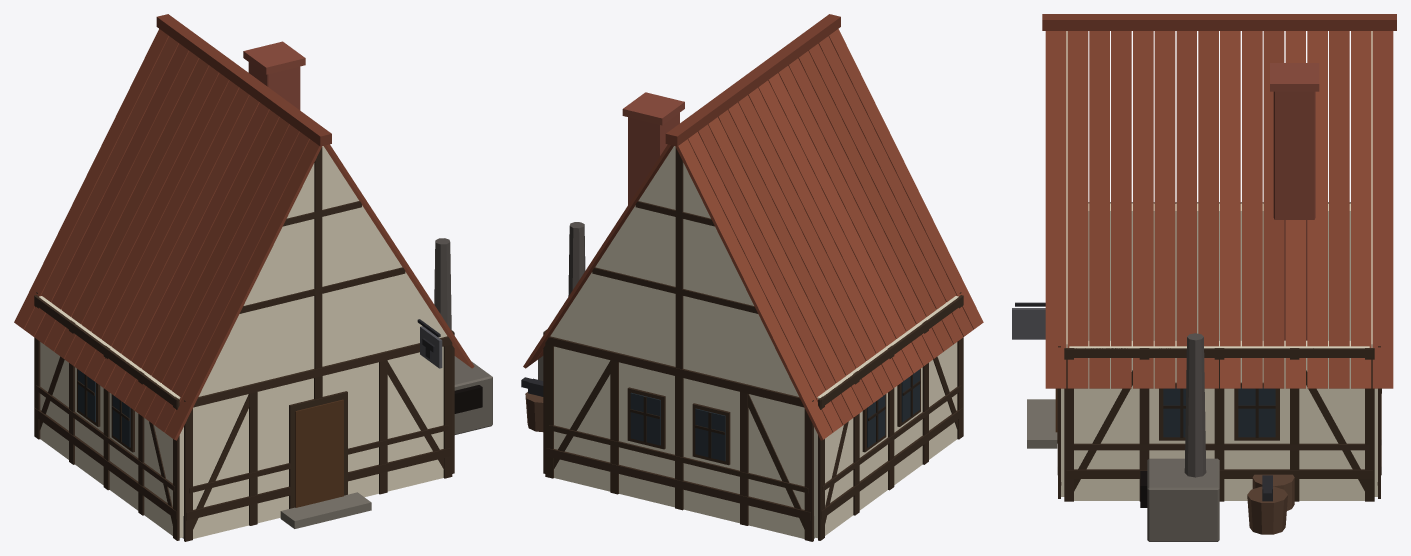
The model's file is forge_2.glb.
3 renders of one model, left to right at view 1: azimuth 30°, elevation 25°; view 2: azimuth 150°, elevation 25°; view 3: azimuth 270°, elevation 25°, orthographic. The views are drawn at different scales.
Parts seen in each view (by area): view 1: forge2_tiles, forge2_plaster, forge2_wood, forge2_stone, forge2_brick, forge2_glass, forge2_soot; view 2: forge2_tiles, forge2_plaster, forge2_wood, forge2_glass, forge2_brick, forge2_stone; view 3: forge2_tiles, forge2_plaster, forge2_wood, forge2_stone, forge2_brick, forge2_glass.
Part boxes in pixels (x1,y1,x2,y2): forge2_tiles: (14, 14, 474, 440); forge2_plaster: (39, 146, 446, 538); forge2_wood: (34, 147, 454, 541); forge2_stone: (182, 238, 492, 538); forge2_brick: (243, 41, 305, 110); forge2_glass: (78, 369, 130, 447); forge2_soot: (454, 385, 482, 413); forge2_tiles: (523, 14, 983, 440); forge2_plaster: (550, 146, 958, 538); forge2_wood: (525, 147, 963, 541); forge2_glass: (630, 369, 919, 461); forge2_brick: (622, 92, 684, 204); forge2_stone: (538, 222, 814, 538); forge2_tiles: (1042, 14, 1396, 388); forge2_plaster: (1061, 31, 1377, 500); forge2_wood: (1012, 202, 1381, 534); forge2_stone: (1027, 333, 1350, 541); forge2_brick: (1270, 63, 1319, 340); forge2_glass: (1163, 387, 1275, 437).
Bounding box in the file's own units: 7.63 × 7.57 × 6.4.
